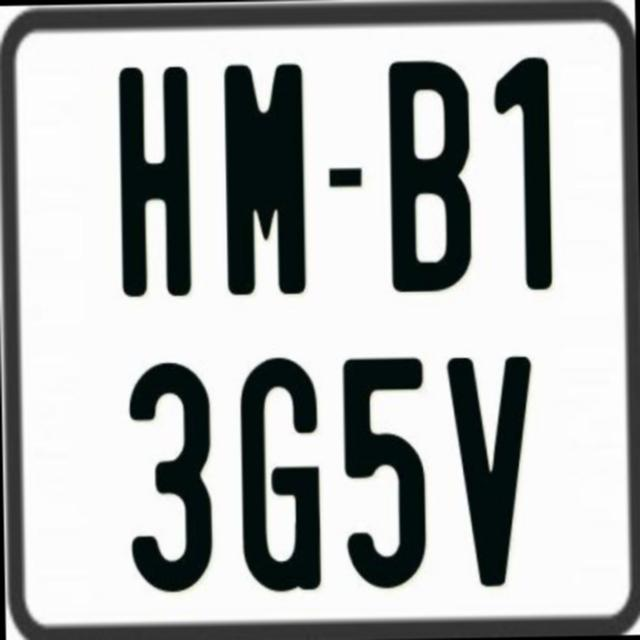1: (492, 52, 554, 295)
3: (124, 358, 208, 596)
5: (338, 355, 428, 590)
B: (384, 58, 472, 290)
G: (239, 356, 323, 594)
H: (116, 62, 188, 300)
M: (219, 61, 309, 299)
V: (443, 357, 530, 592)
